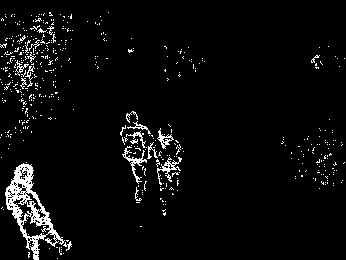person: (6, 164, 72, 260), (120, 110, 155, 204), (154, 122, 183, 217)
